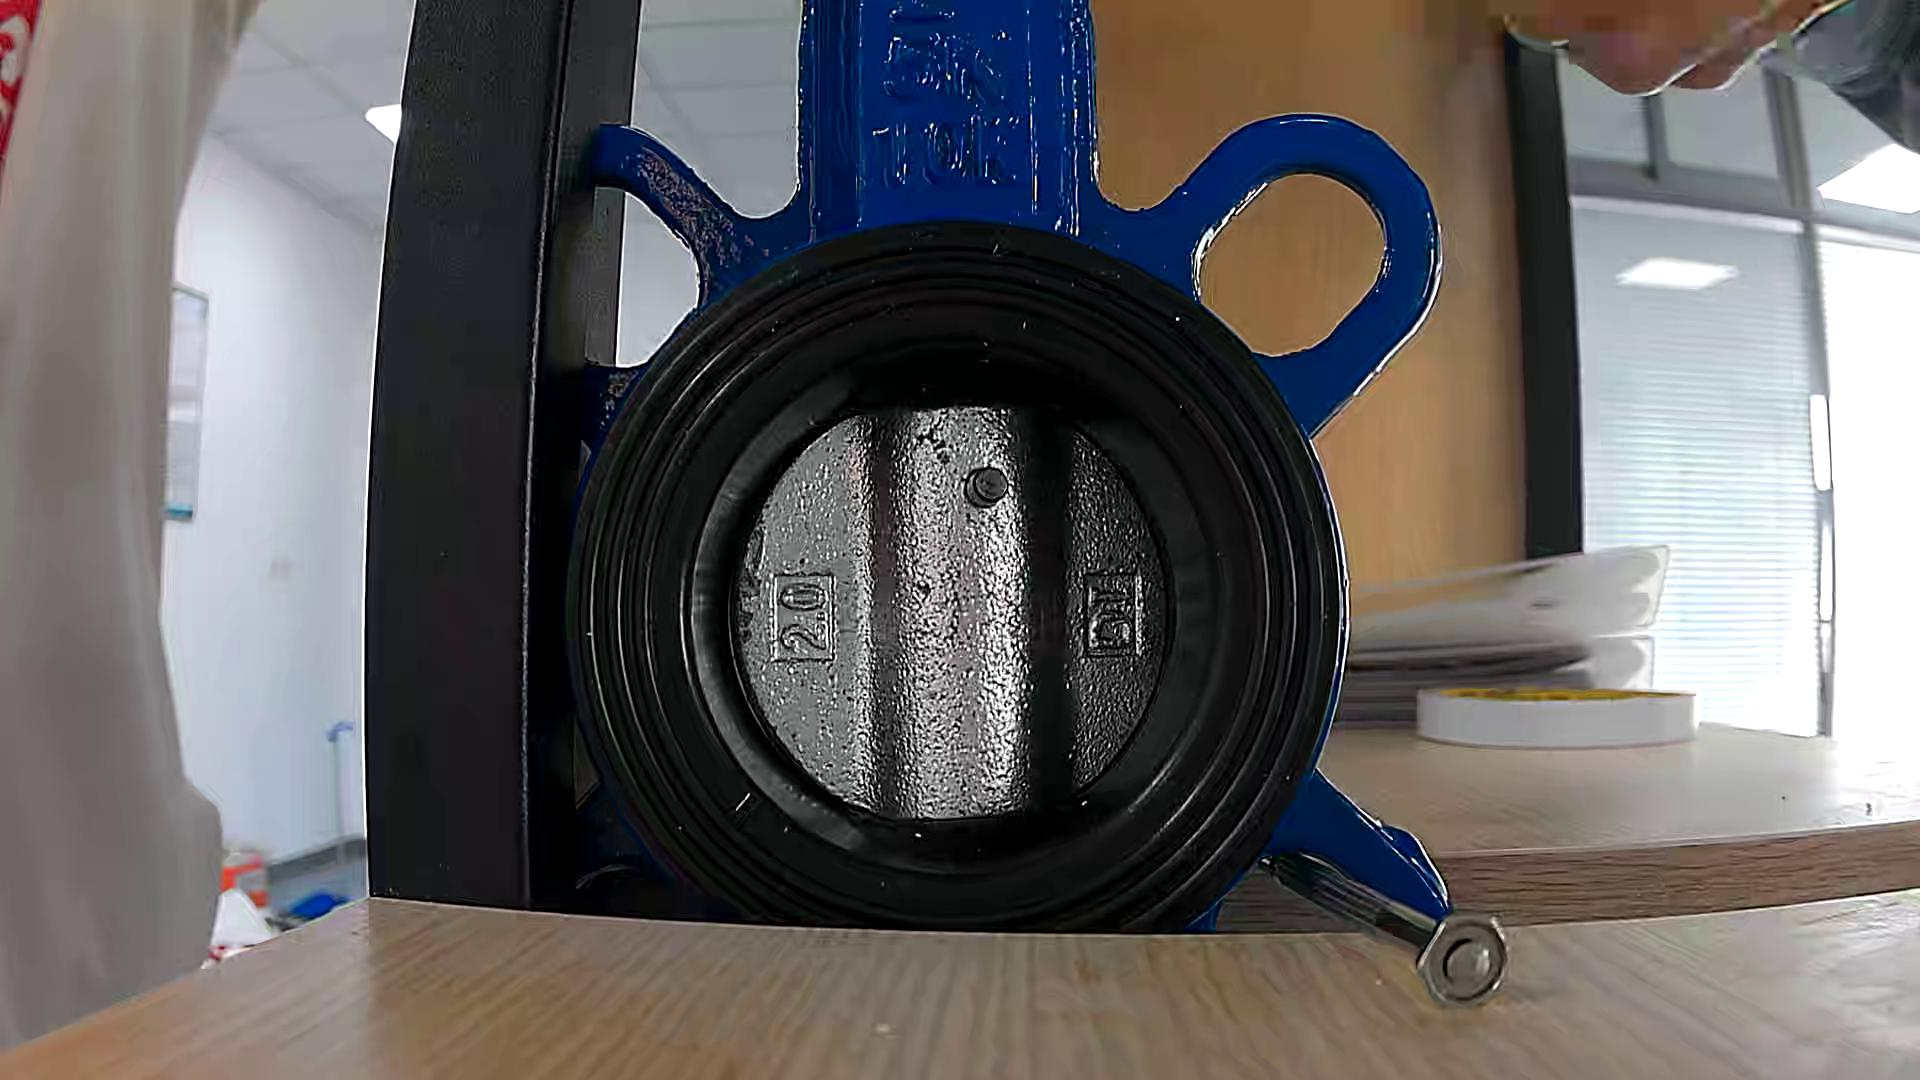valve: (729, 405, 1170, 822)
